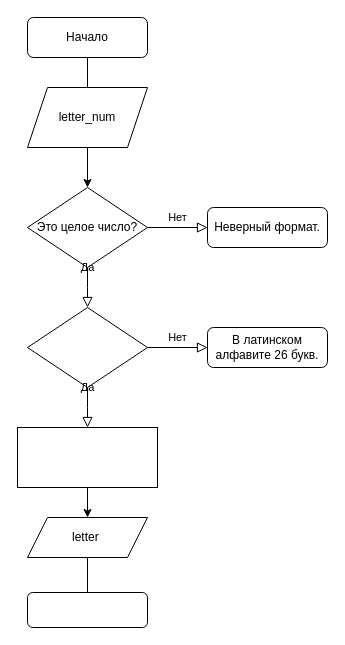
The diagram is 345 pixels wide and 645 high, and some of its shapes have lost their labels. The centre of each missing label's shape, as x and y in pixels:
"letter_num += ord('a') - 1 letter = chr(letter_num)" belongs at (x=87, y=457).
"В диапазоне от 1 до 26?" belongs at (x=87, y=347).
"Конец" belongs at (x=87, y=610).
